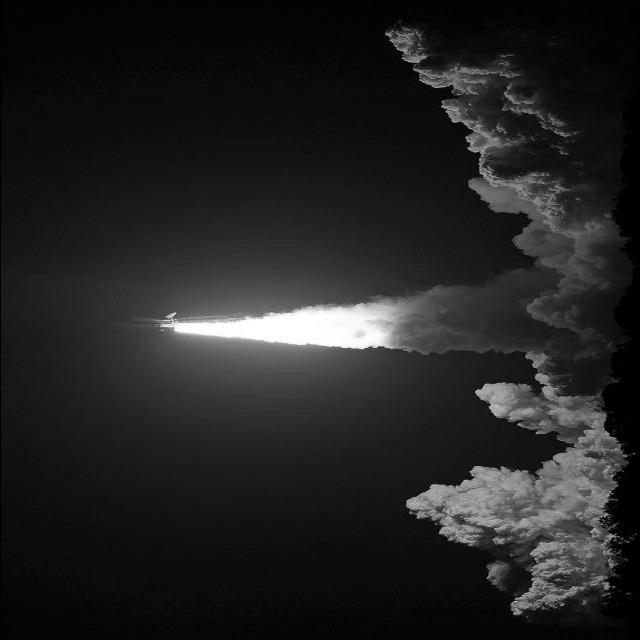missile: (95, 311, 185, 333)
